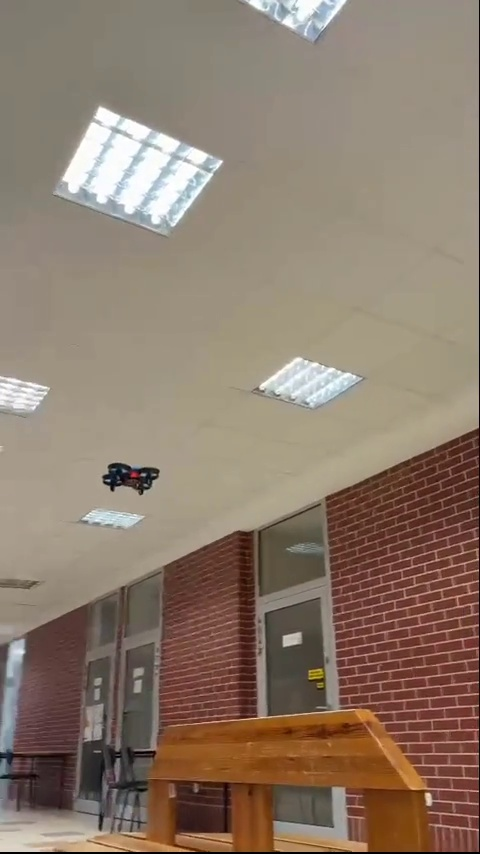drone: (105, 461, 164, 499)
